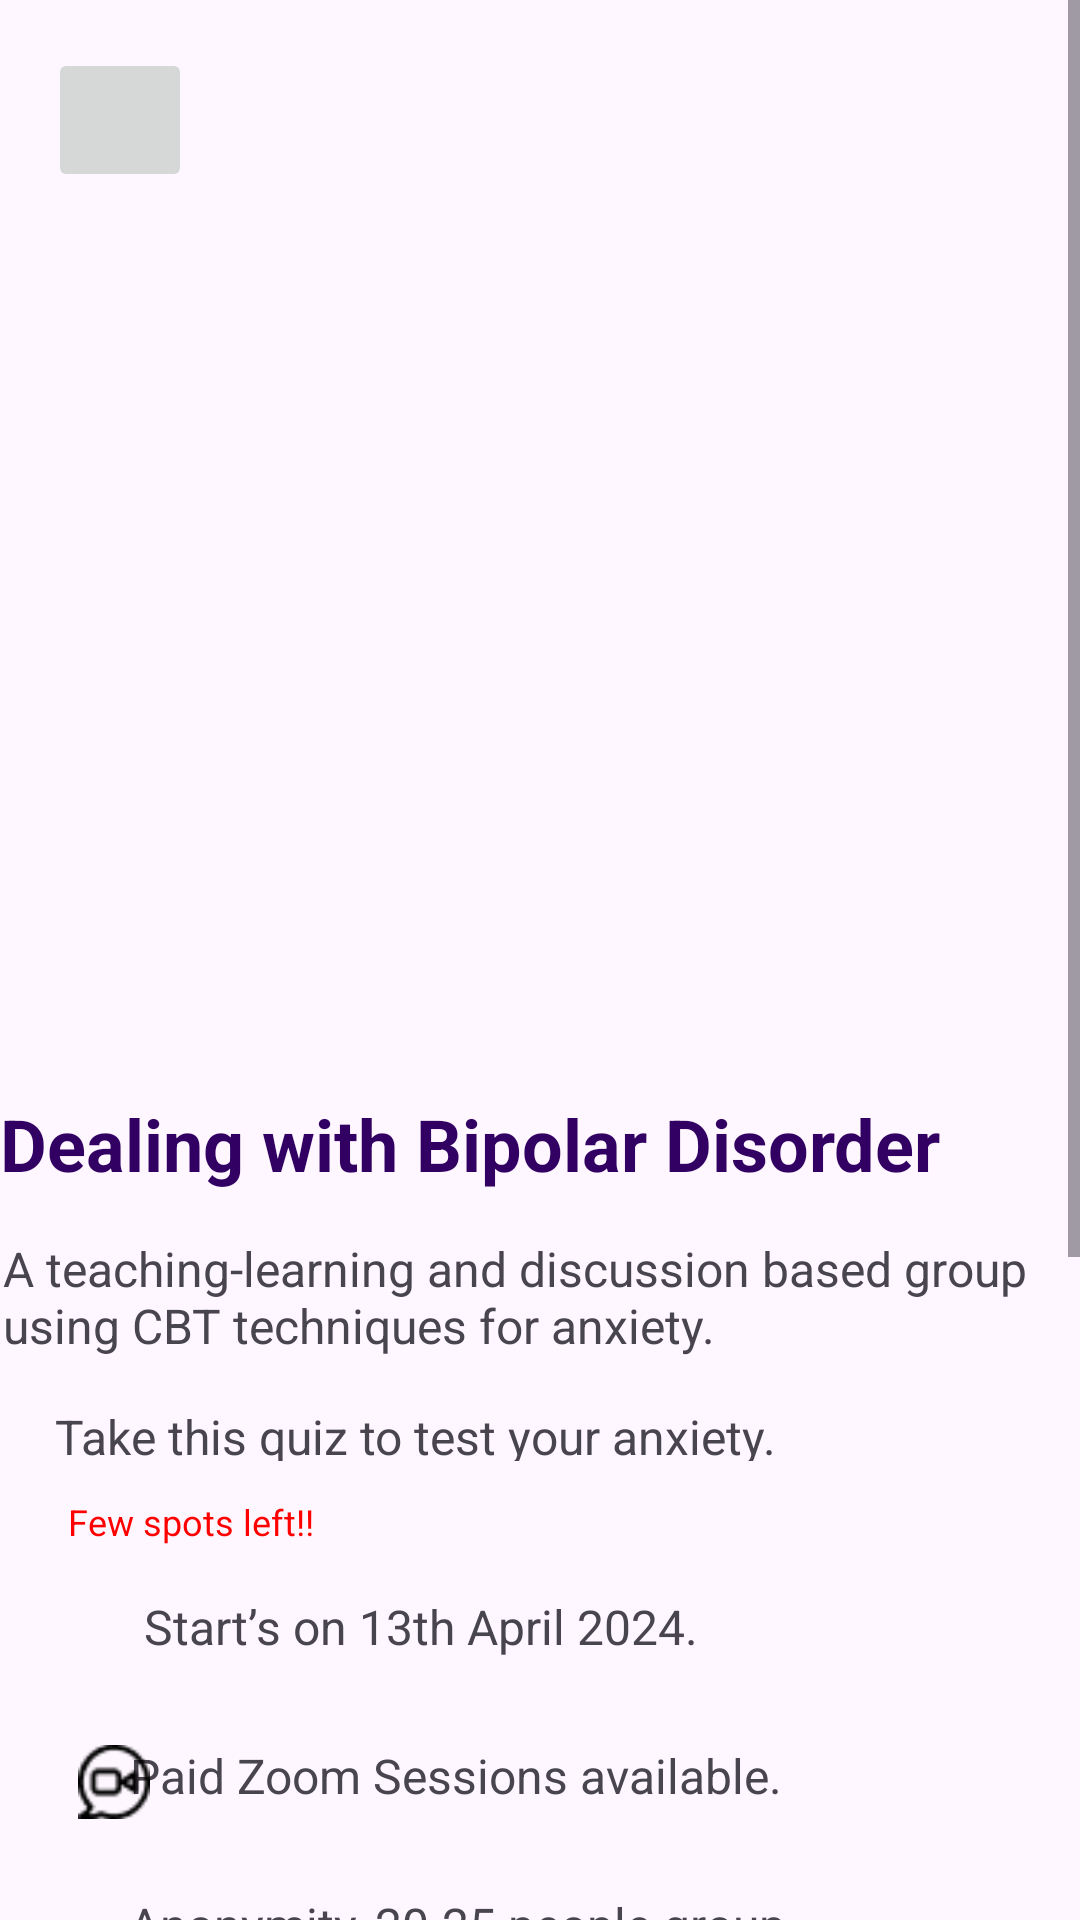

Named icons in this screenshot (1080×1920) and their bounding boxes, [x1=x1, y1=y1, x2=x2, y2=y2]:
vediocall: [x1=78, y1=1745, x2=150, y2=1819]
